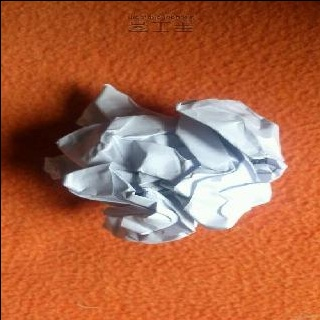8/可回收垃圾/纸: (41, 83, 287, 243)
